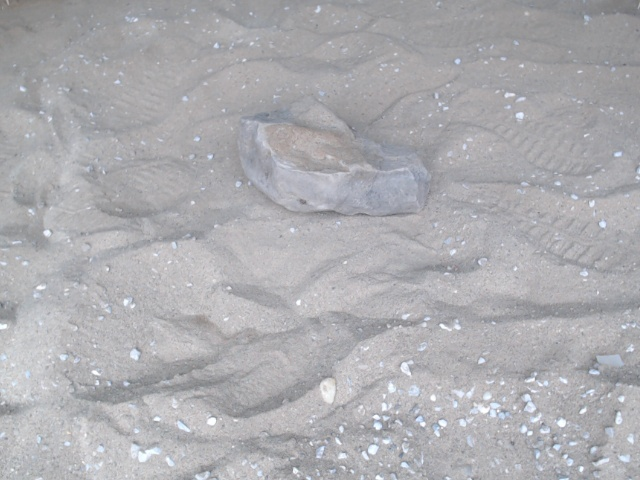rock: (229, 88, 442, 225)
